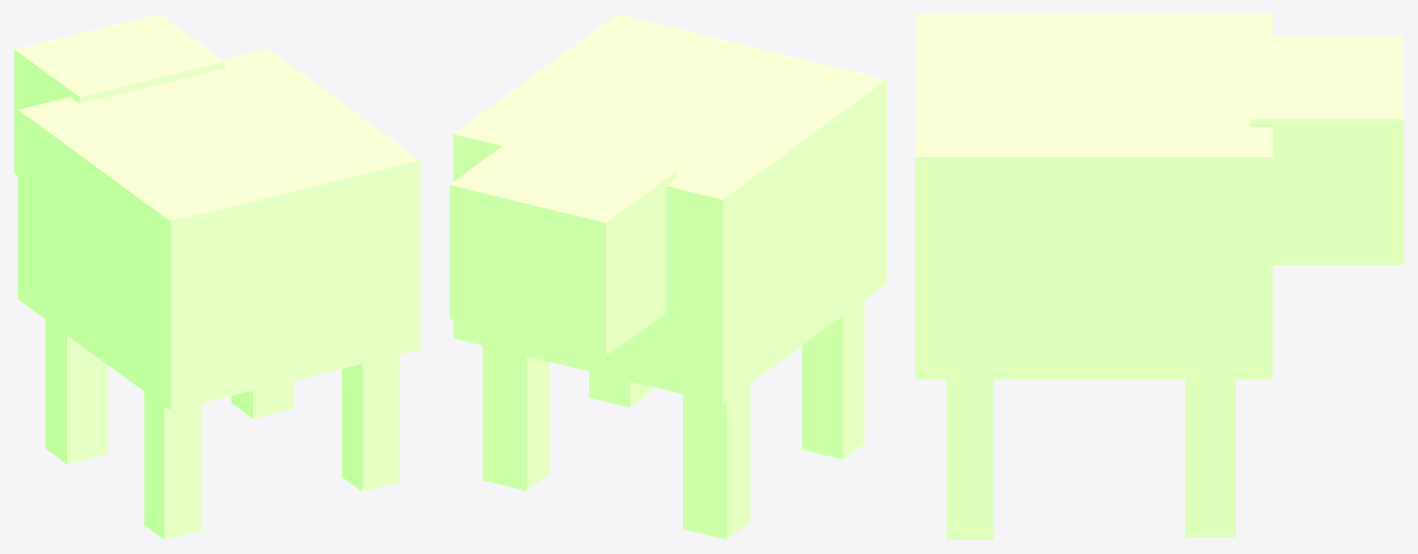
Rendered from brute.glb.
3 renders of one model, left to right at view 1: azimuth 30°, elevation 25°; view 2: azimuth 150°, elevation 25°; view 3: azimuth 270°, elevation 25°, orthographic. The views are drawn at different scales.
Parts seen in each view (by area): view 1: body, head, rear-left-leg, front-left-leg, rear-right-leg, front-right-leg; view 2: body, head, front-left-leg, front-right-leg, rear-left-leg, rear-right-leg; view 3: body, head, front-right-leg, rear-right-leg.
Part boxes in pixels (x1,y1,x2,y2): body: [18, 49, 420, 410]; head: [14, 14, 224, 175]; rear-left-leg: [144, 392, 202, 539]; front-left-leg: [45, 319, 107, 464]; rear-right-leg: [342, 355, 399, 491]; front-right-leg: [231, 381, 293, 418]; body: [453, 14, 886, 403]; head: [449, 133, 676, 356]; front-left-leg: [683, 384, 750, 539]; front-right-leg: [482, 345, 549, 490]; rear-left-leg: [802, 300, 864, 459]; rear-right-leg: [589, 371, 651, 407]; body: [915, 14, 1272, 379]; head: [1250, 36, 1403, 264]; front-right-leg: [1185, 379, 1235, 537]; rear-right-leg: [946, 379, 993, 539].
Size of the model in its own units: 1.16 by 1.49 by 1.68.
